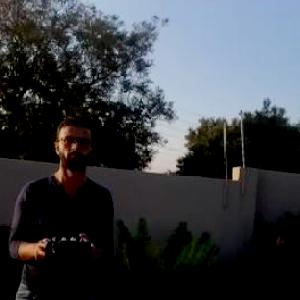follow: (2, 115, 120, 299)
